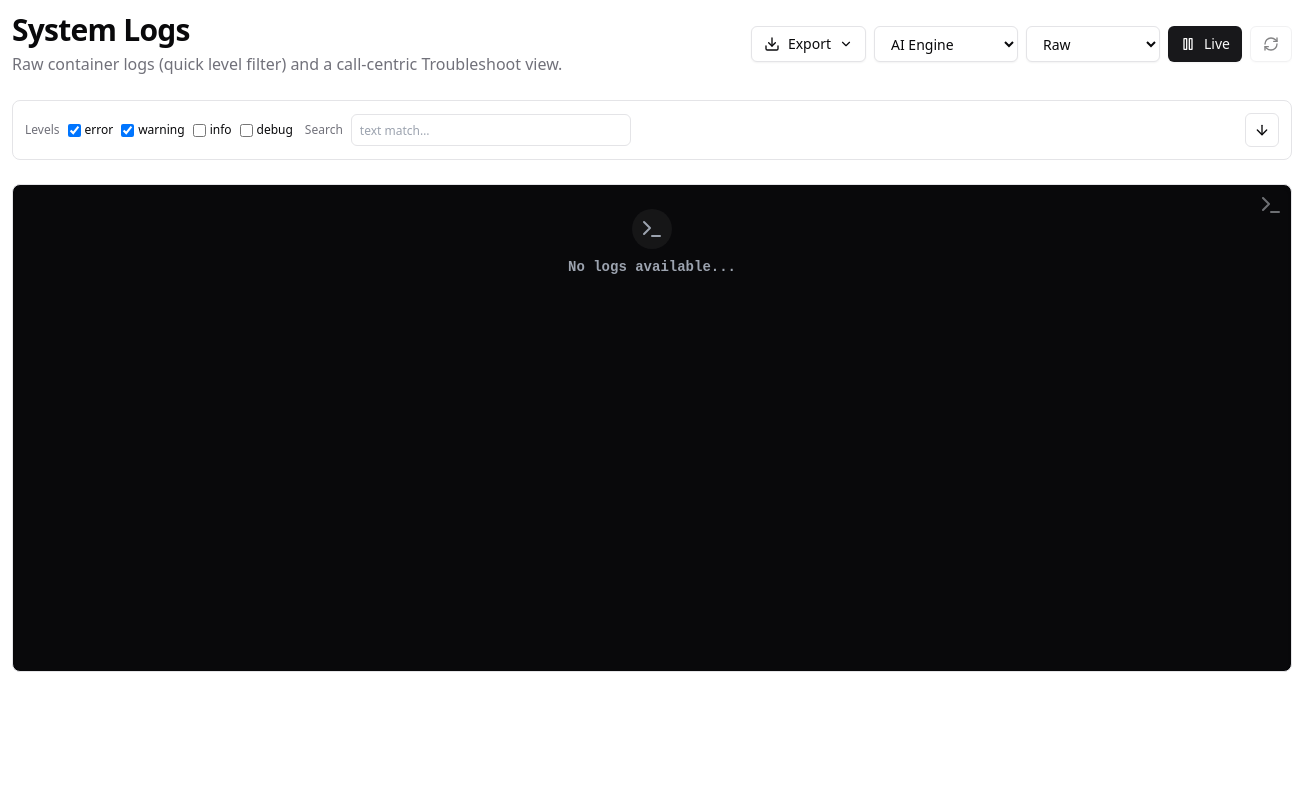
Scenario: LogsPage polling › clears loading when switching away from an active raw-log request
Expected: the button titled "Refresh Now" is disabled, [1250,26,1292,62]
Select "Troubleshoot" in the dropdown titled "Logs View". click: [1093, 44]
box: [1026,26,1160,62]
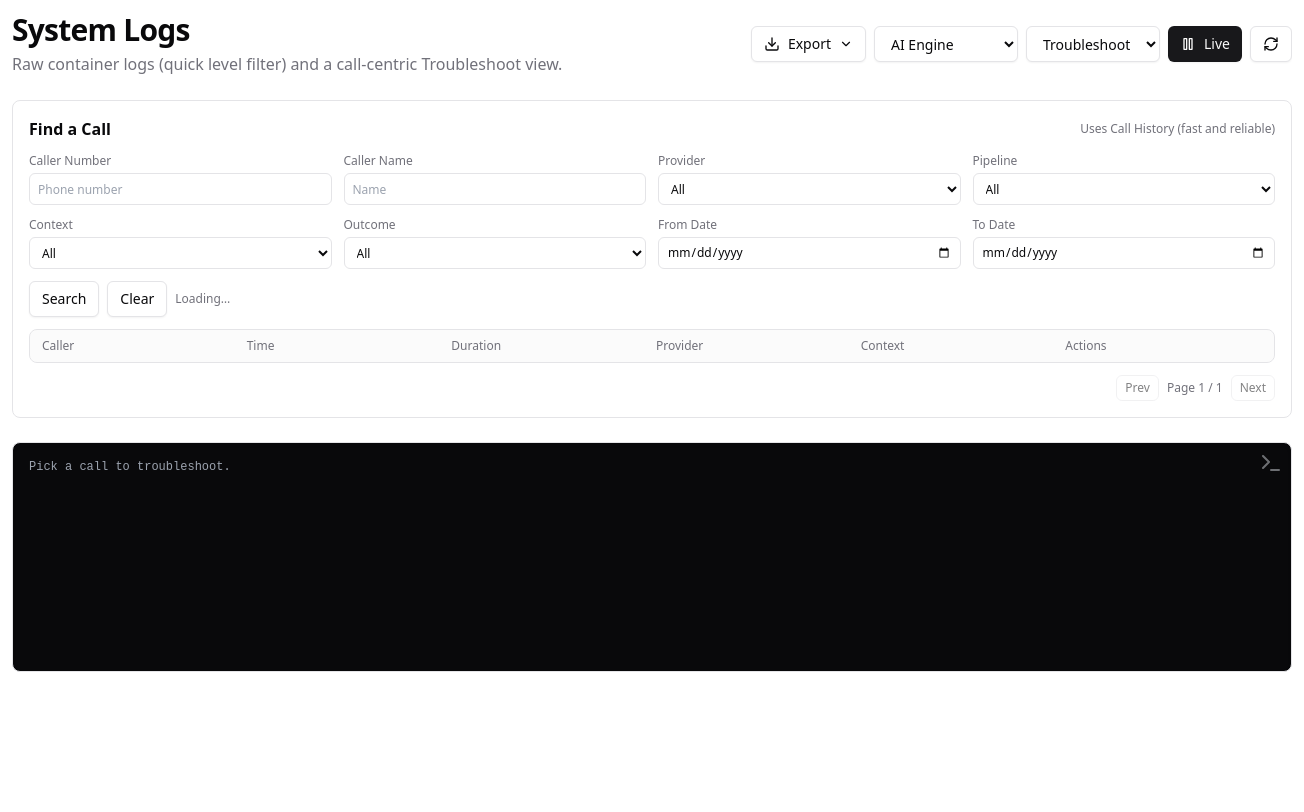
Now the button titled "Refresh Now" is enabled, box [1250,26,1292,62]
